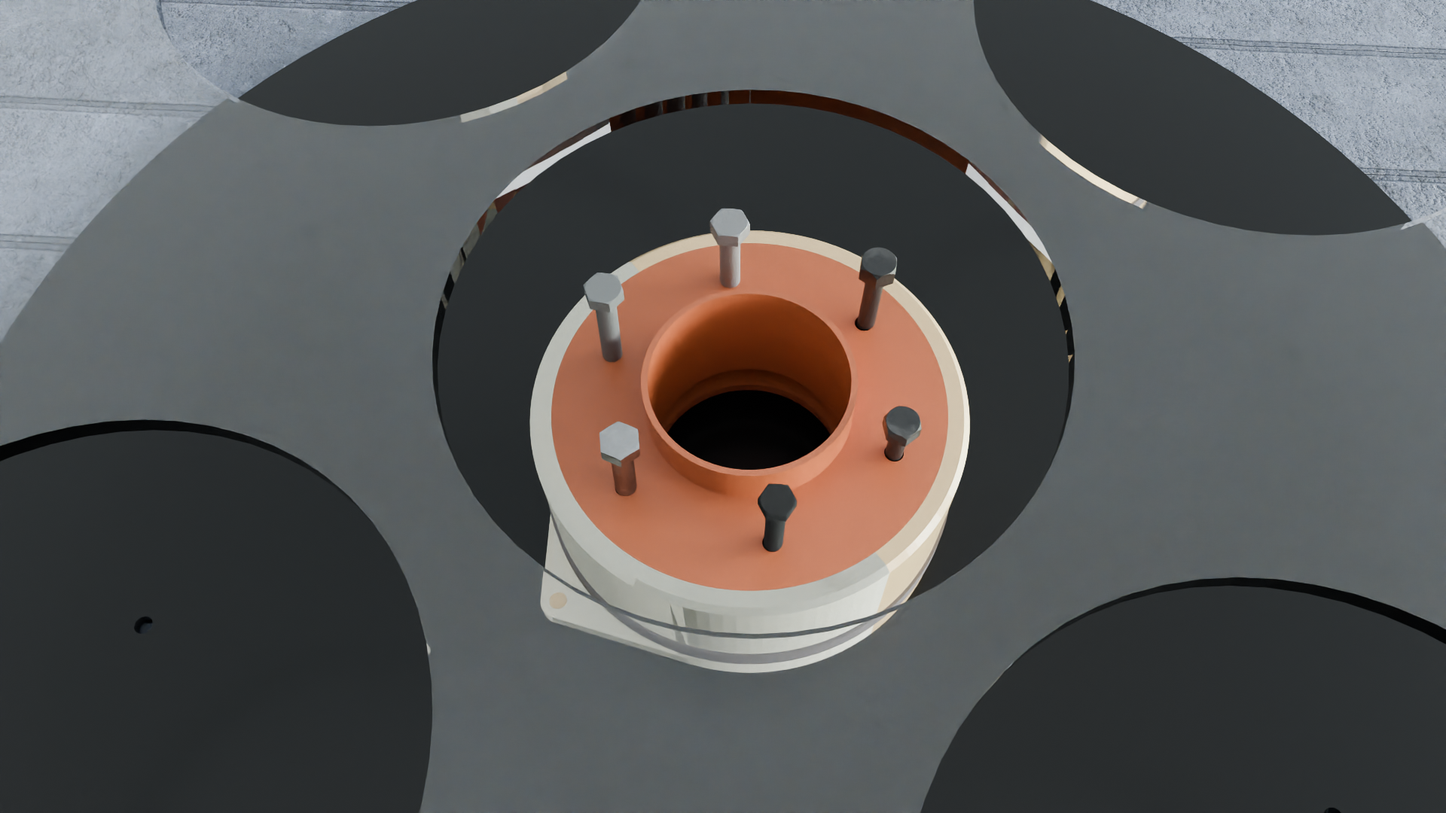bolt: (599, 422, 639, 461), (758, 483, 798, 516), (884, 406, 922, 440), (584, 273, 624, 304), (861, 247, 897, 280), (710, 209, 750, 238)
